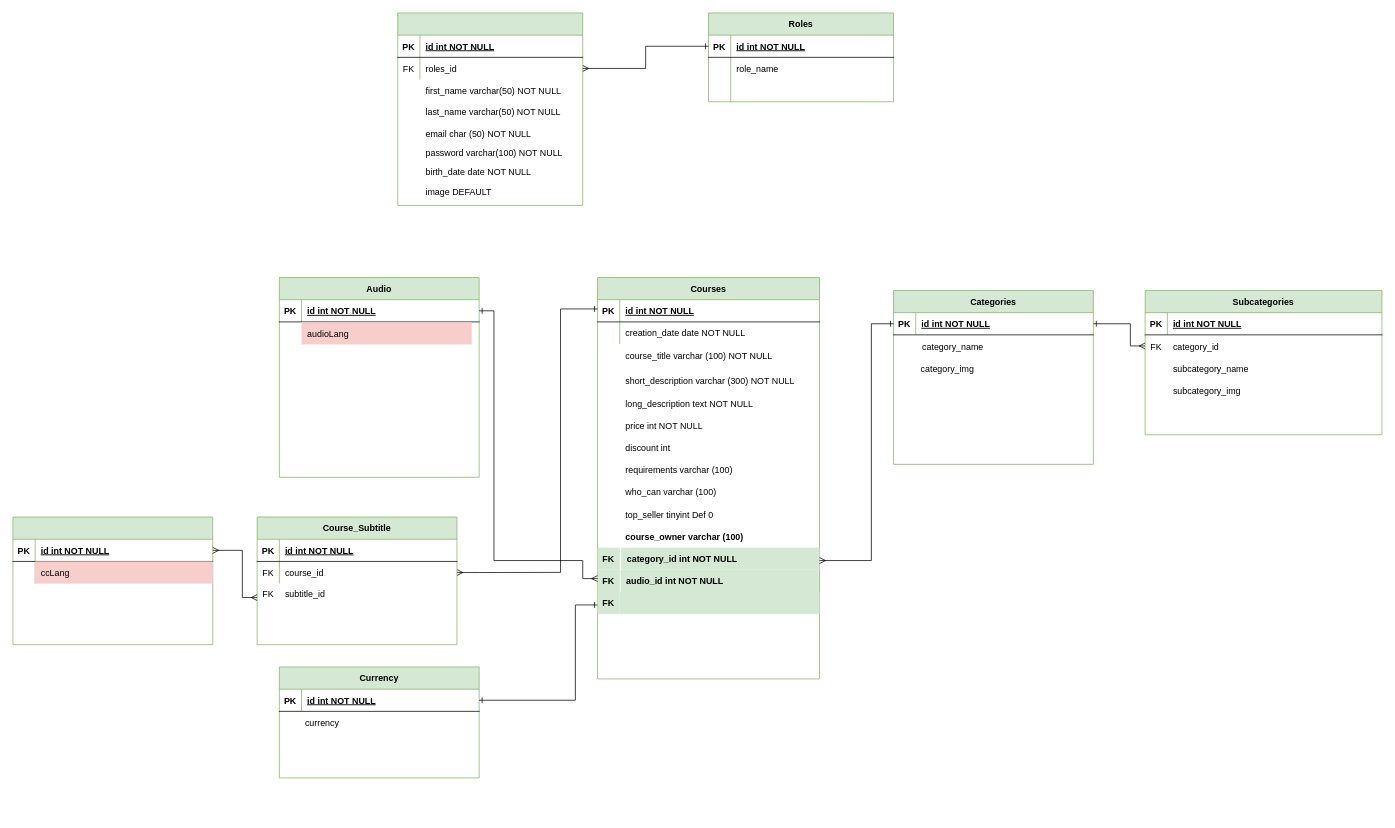
Some shapes in this 1395 by 828 pixel diagram are drawn without their labels. The box of each missing label's shape, as (x1, y1, x2, y2) in pixels:
currency_id int NOT NULL: (619, 592, 819, 614)
Subtitles: (12, 516, 213, 645)
Users: (397, 12, 583, 205)
